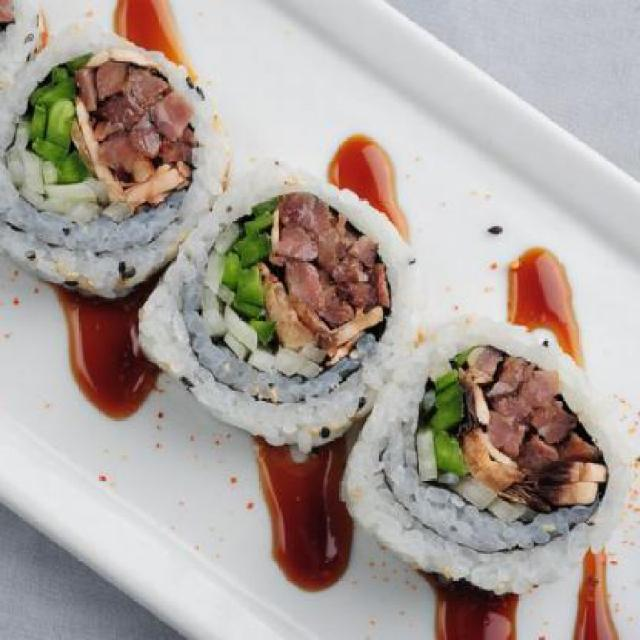steak: (276, 203, 395, 308), (464, 355, 574, 459), (92, 54, 192, 166)
sushi: (1, 20, 622, 595)
